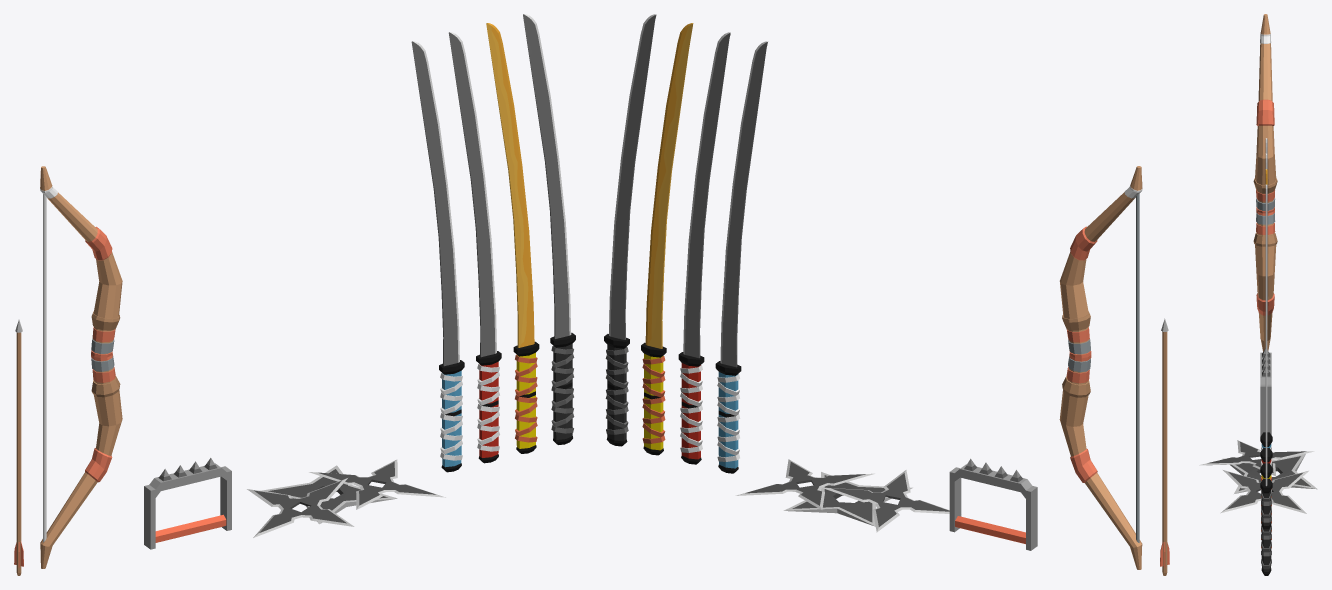
File: Ninja Pack.fbx
3 views of the same model, side by side, from view 1: azimuth 30°, elevation 25°; view 2: azimuth 150°, elevation 25°; view 3: azimuth 270°, elevation 25° (orthographic). The views are drawn at different scales.
Visible parts, largest first — view 1: Circle.005, Plane.009, Plane.008, Plane, Plane.018, Cube, Circle.001, Circle.002, Circle.003, Circle; view 2: Circle.005, Plane.008, Plane, Plane.009, Plane.018, Cube, Circle.001, Circle.002, Circle, Circle.003; view 3: Circle.005, Plane.018, Circle.002, Circle, Circle.001, Cube, Plane.009, Plane, Plane.008.
Boxes of the visible parts, x1=… form: Circle.005: x1=40, y1=166, x2=122, y2=568; Plane.009: x1=486, y1=23, x2=539, y2=453; Plane.008: x1=411, y1=41, x2=464, y2=472; Plane: x1=448, y1=32, x2=501, y2=463; Plane.018: x1=523, y1=14, x2=575, y2=444; Cube: x1=144, y1=458, x2=231, y2=549; Circle.001: x1=247, y1=478, x2=354, y2=537; Circle.002: x1=309, y1=459, x2=445, y2=509; Circle.003: x1=14, y1=319, x2=23, y2=575; Circle: x1=260, y1=465, x2=397, y2=524; Circle.005: x1=1059, y1=166, x2=1142, y2=569; Plane.008: x1=715, y1=41, x2=767, y2=473; Plane: x1=678, y1=32, x2=730, y2=464; Plane.009: x1=641, y1=23, x2=693, y2=455; Plane.018: x1=604, y1=14, x2=656, y2=446; Cube: x1=949, y1=458, x2=1037, y2=550; Circle.001: x1=821, y1=470, x2=949, y2=532; Circle.002: x1=735, y1=459, x2=874, y2=509; Circle: x1=783, y1=472, x2=912, y2=526; Circle.003: x1=1160, y1=318, x2=1169, y2=575; Circle.005: x1=1253, y1=14, x2=1277, y2=351; Plane.018: x1=1260, y1=184, x2=1272, y2=575; Circle.002: x1=1220, y1=470, x2=1308, y2=513; Circle: x1=1222, y1=453, x2=1317, y2=493; Circle.001: x1=1199, y1=440, x2=1314, y2=476; Cube: x1=1260, y1=348, x2=1271, y2=436; Plane.009: x1=1260, y1=169, x2=1272, y2=548; Plane: x1=1260, y1=153, x2=1272, y2=532; Plane.008: x1=1260, y1=138, x2=1272, y2=516.
Bounding box in the file's own units: 574 × 433 × 125.
5 materials, 5 textured.
